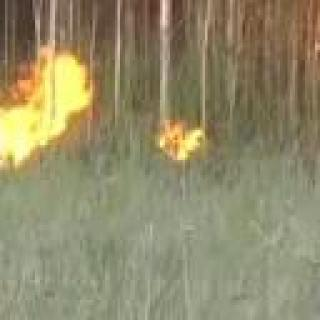fire: (0, 44, 98, 165), (155, 110, 209, 167)
